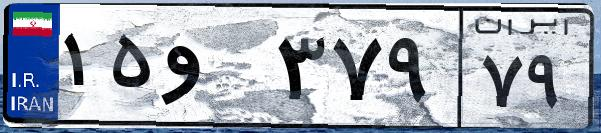1: (57, 26, 110, 100)
3: (270, 28, 330, 110)
5: (110, 28, 158, 98)
7: (330, 28, 385, 110), (475, 38, 525, 113)
9: (385, 28, 445, 110), (525, 38, 570, 115)
و: (158, 20, 270, 120)
